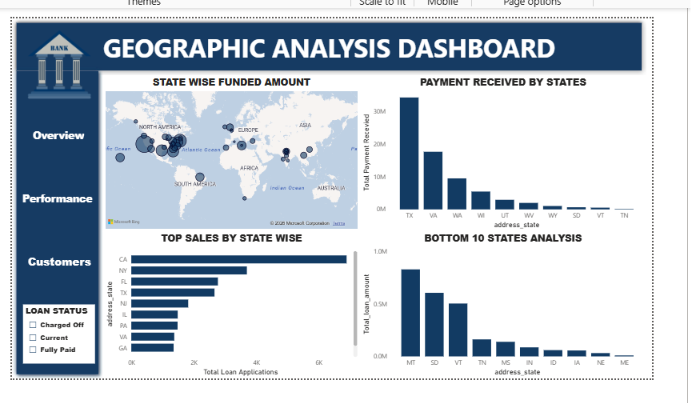

The page's visual inventory and layout, read from the dashboard file:
{"tool":"powerbi","page":{"name":"Geographic Analysis ","canvas":[1280,720],"ordinal":3},"visuals":[{"type":"shape","box":[0,0,1268.5,113.4],"z":0},{"type":"shape","box":[0,96.3,181.8,624.6],"z":1000},{"type":"image","box":[4.3,0,181.8,184],"z":2000},{"type":"map","title":"STATE WISE FUNDED AMOUNT ","fields":{"Category":["bank_loan_analysis bank_loan.address_state"],"Size":["bank_loan_analysis bank_loan.Total_loan_amount"]},"box":[182,114,514,312],"z":3000},{"type":"clusteredBarChart","title":"TOP SALES BY STATE WISE","fields":{"Category":["bank_loan_analysis bank_loan.address_state"],"Y":["bank_loan_analysis bank_loan.Total Loan Applications"]},"box":[182,426,514,294],"z":4000},{"type":"clusteredColumnChart","title":"PAYMENT RECEIVED BY STATES ","fields":{"Category":["bank_loan_analysis bank_loan.address_state"],"Y":["bank_loan_analysis bank_loan.Total Payment Recevied"]},"box":[696,114,572,312],"z":5000},{"type":"clusteredColumnChart","title":"BOTTOM 10 STATES ANALYSIS","fields":{"Category":["bank_loan_analysis bank_loan.address_state"],"Y":["bank_loan_analysis bank_loan.Total_loan_amount"]},"box":[696,426,572,294],"z":6000},{"type":"actionButton","box":[18,198,150,72],"z":7000},{"type":"actionButton","box":[20,450,150,72],"z":8000},{"type":"actionButton","box":[16,324,150,72],"z":9000},{"type":"slicer","title":"LOAN STATUS","fields":{"Values":["bank_loan_analysis bank_loan.loan_status"]},"box":[22,572,144,118],"z":10000}]}

Visuals, with their boxes on the page's 1280x720 design canvas (x1, y1, x2, y2). These are canvas units, not pixel positions in the 691x403 screenshot, which may show the page scaled, cropped or inside an application window:
shape: left=0, top=0, right=1268, bottom=113
shape: left=0, top=96, right=182, bottom=721
image: left=4, top=0, right=186, bottom=184
"STATE WISE FUNDED AMOUNT " map: left=182, top=114, right=696, bottom=426
"TOP SALES BY STATE WISE" clusteredBarChart: left=182, top=426, right=696, bottom=720
"PAYMENT RECEIVED BY STATES " clusteredColumnChart: left=696, top=114, right=1268, bottom=426
"BOTTOM 10 STATES ANALYSIS" clusteredColumnChart: left=696, top=426, right=1268, bottom=720
actionButton: left=18, top=198, right=168, bottom=270
actionButton: left=20, top=450, right=170, bottom=522
actionButton: left=16, top=324, right=166, bottom=396
"LOAN STATUS" slicer: left=22, top=572, right=166, bottom=690
